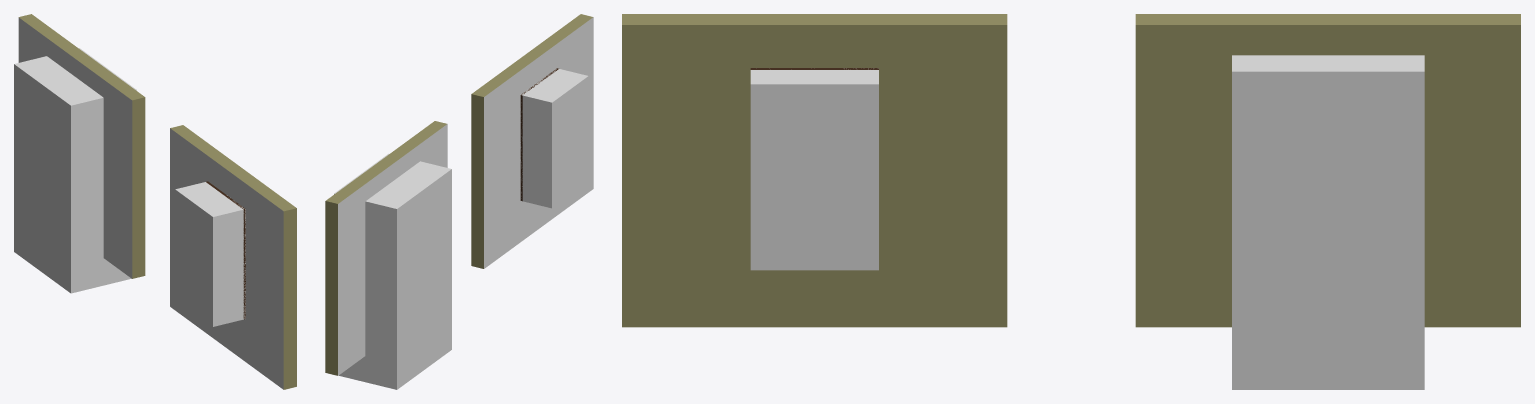
The model's file is ModularHouse1.fbx.
The picture shows the model from 3 angles, left to right: view 1: azimuth 30°, elevation 25°; view 2: azimuth 150°, elevation 25°; view 3: azimuth 270°, elevation 25°; orthographic projection. The views are drawn at different scales.
Visible parts, largest first — view 1: WindowCutter.001, Cube, Cube.001, WindowCutter, Window; view 2: WindowCutter.001, Cube, Cube.001, WindowCutter, Window; view 3: Cube, Cube.001, WindowCutter.001, WindowCutter.
Part boxes in pixels (bbox=[...]): WindowCutter.001: bbox=[14, 48, 136, 293]; Cube: bbox=[170, 125, 296, 389]; Cube.001: bbox=[18, 14, 145, 278]; WindowCutter: bbox=[175, 182, 245, 326]; Window: bbox=[206, 181, 245, 319]; WindowCutter.001: bbox=[334, 153, 451, 389]; Cube: bbox=[471, 14, 593, 268]; Cube.001: bbox=[325, 121, 447, 375]; WindowCutter: bbox=[520, 69, 588, 208]; Window: bbox=[520, 68, 558, 201]; Cube: bbox=[622, 14, 1007, 327]; Cube.001: bbox=[1135, 14, 1520, 327]; WindowCutter.001: bbox=[1232, 55, 1424, 389]; WindowCutter: bbox=[750, 68, 878, 270].
Size of the model in its own units: 200 by 600 by 1400.
